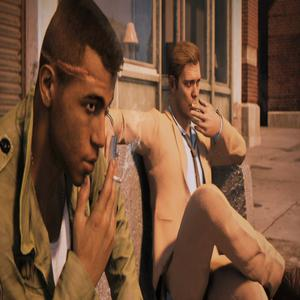cigarette: (104, 172, 125, 184)
